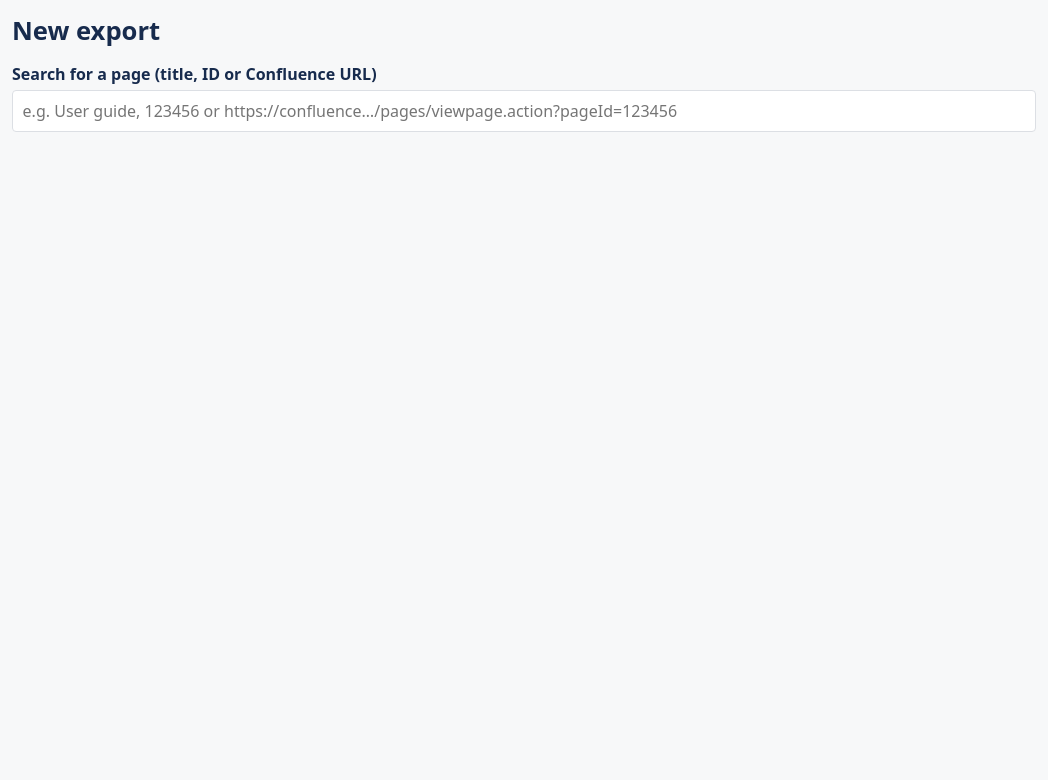
it: NewExportPage › sends the chosen classification and warns about the watermark
The image size is (1048, 780).
Later steps or results of the test are not shown.
Type "guide" into the search field labelled "Search for a page (title, ID or Confluence URL)" at (524, 111), box [12,90,1036,132]
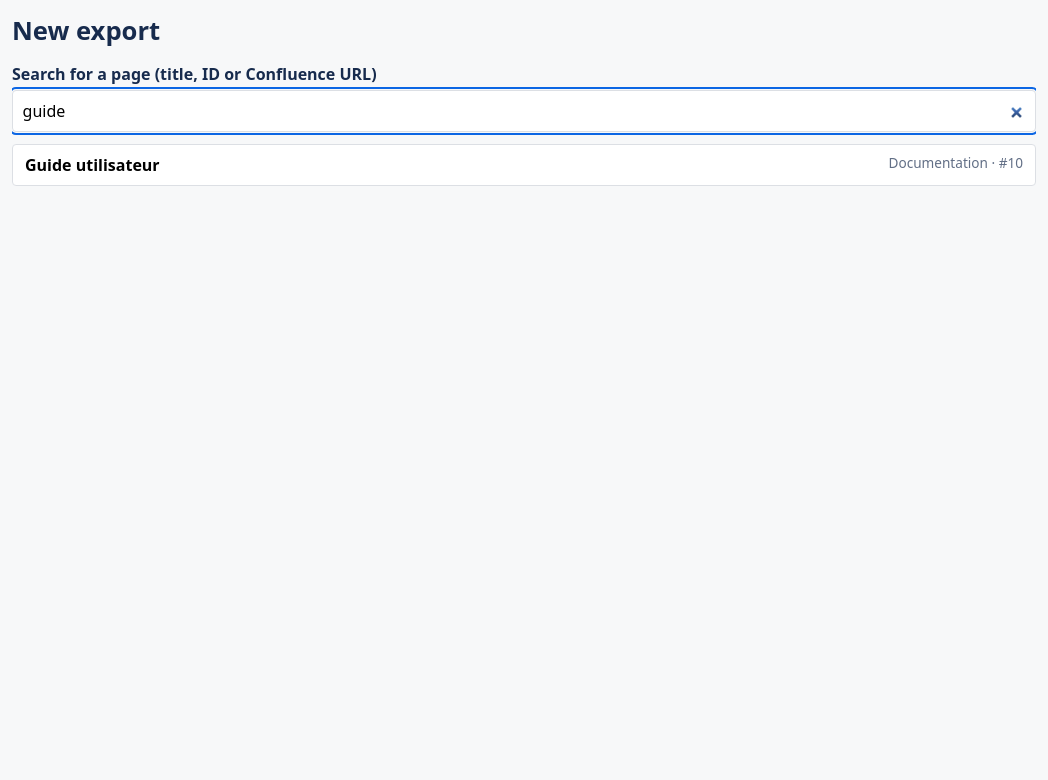
Click the button "Guide utilisateur Documentation · #10" at (92, 165), box [12,144,1036,186]
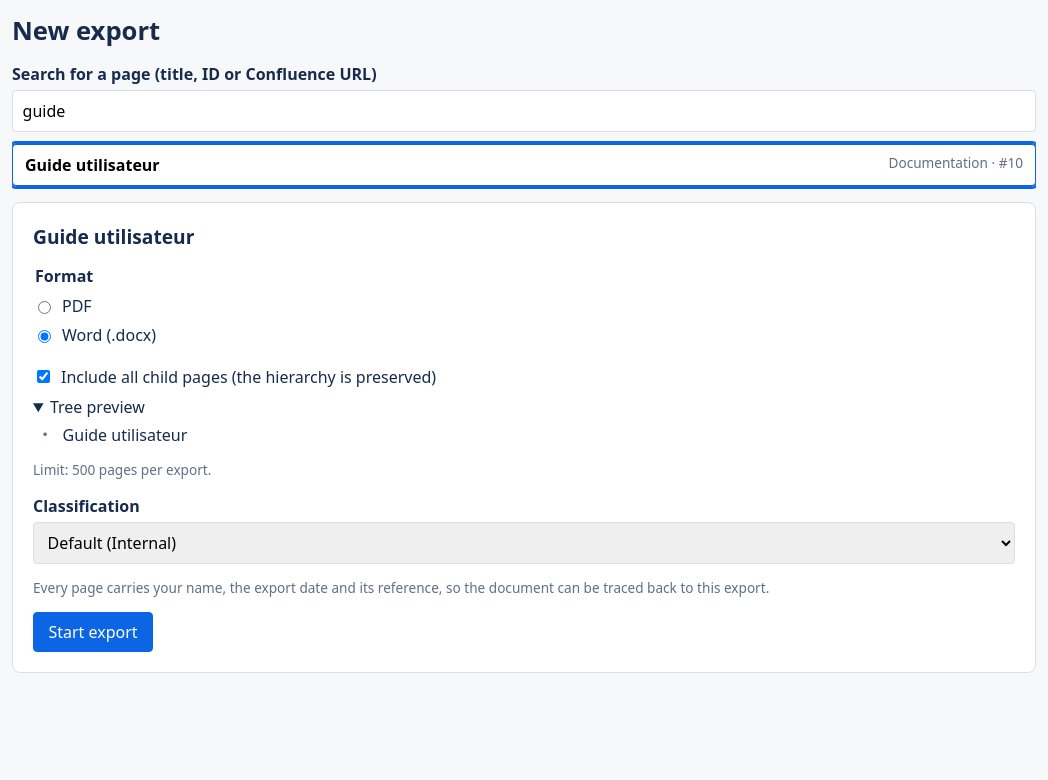
Select "Confidential — watermarked" in the dropdown labelled "Classification" at (524, 543), box [33,522,1015,564]
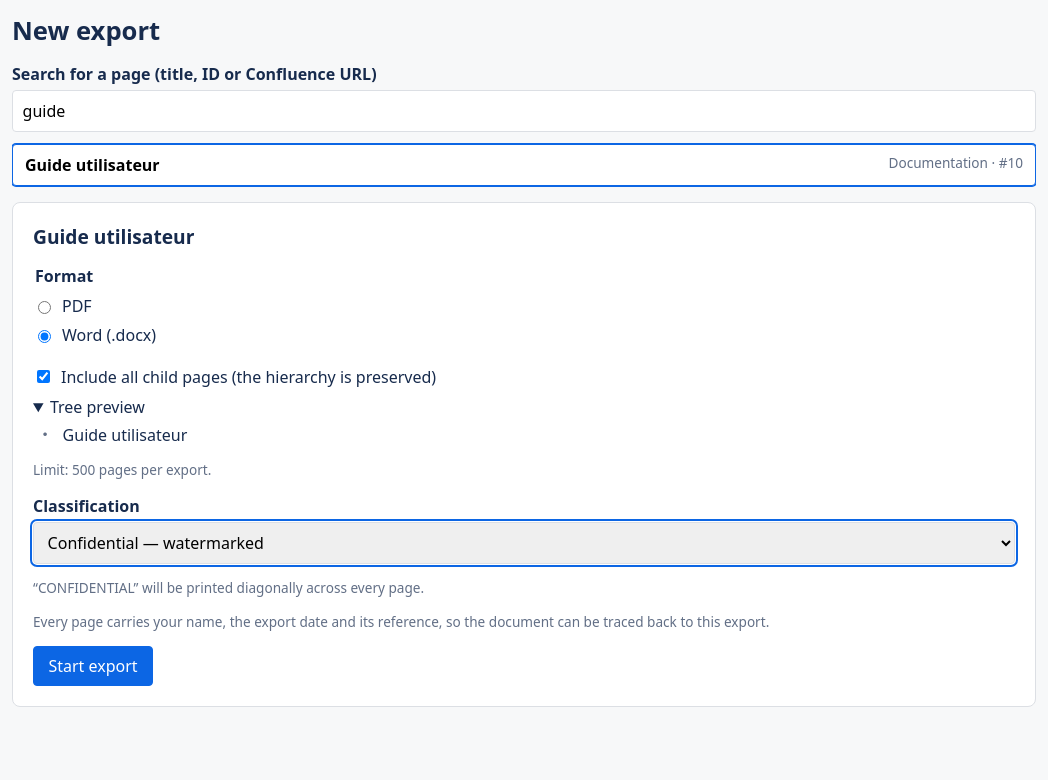
Result: the text "“CONFIDENTIAL” will be printed diagonally across every page." is shown at [33,578,424,597]
